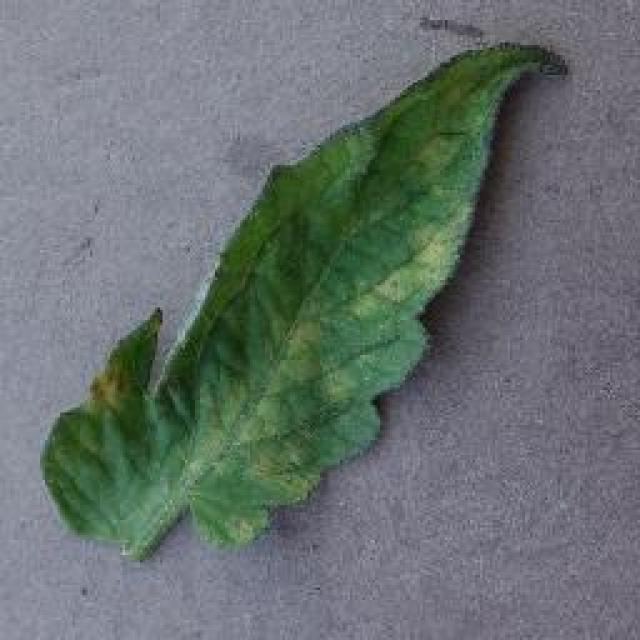Tomato___Leaf_Mold: (42, 45, 560, 555)
